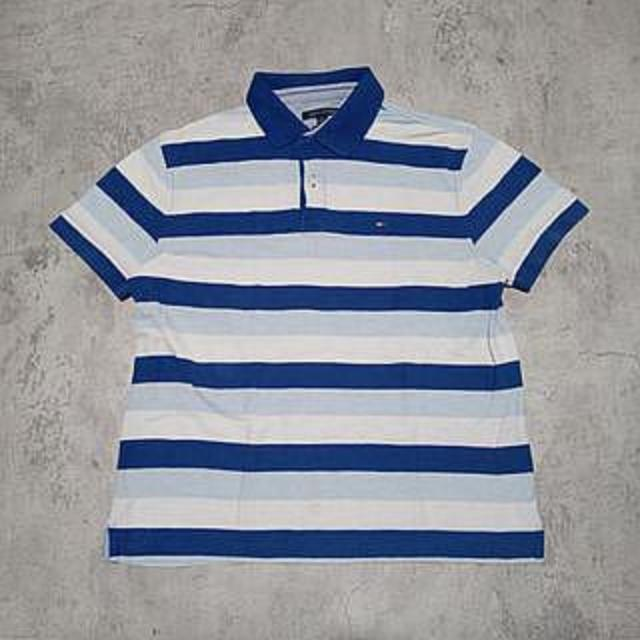T_SHIRT: (39, 53, 602, 574)
